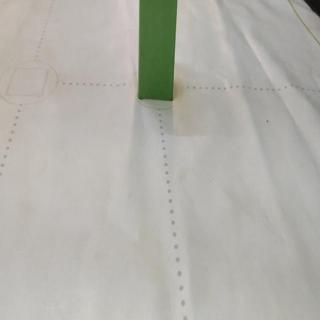greenbox: (135, 0, 180, 100)
